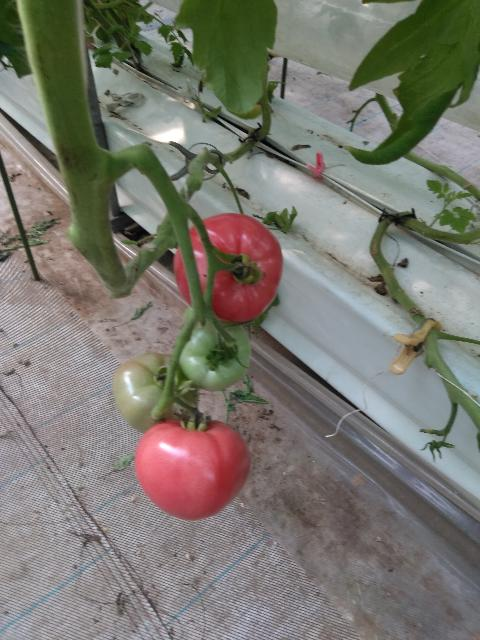b_fully_ripened: (173, 213, 283, 323), (134, 419, 250, 521)
b_green: (113, 352, 199, 434), (179, 315, 251, 392)
